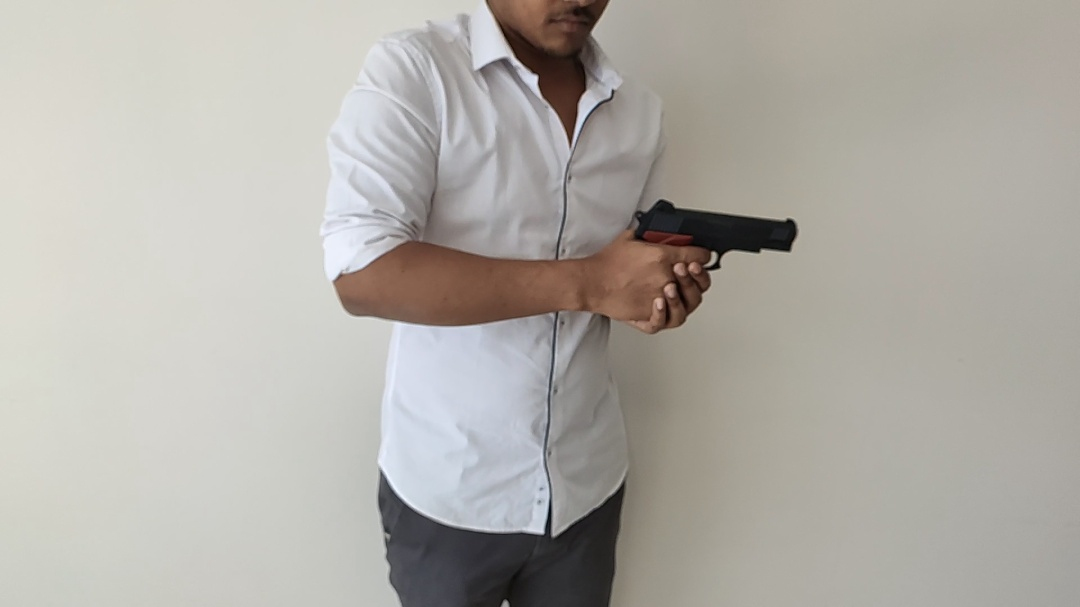gun: (634, 198, 800, 274)
